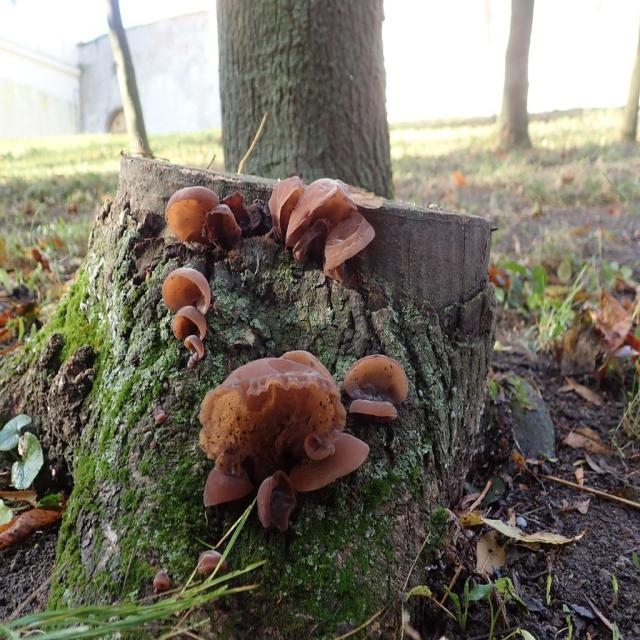Matang: (188, 351, 339, 461), (278, 171, 359, 267), (294, 427, 371, 495), (310, 208, 380, 278), (162, 173, 220, 254), (340, 350, 421, 402), (156, 262, 224, 318), (250, 467, 304, 536), (266, 169, 303, 256), (344, 388, 402, 430), (199, 462, 253, 506), (202, 202, 242, 260), (166, 304, 212, 339), (182, 333, 208, 357)
